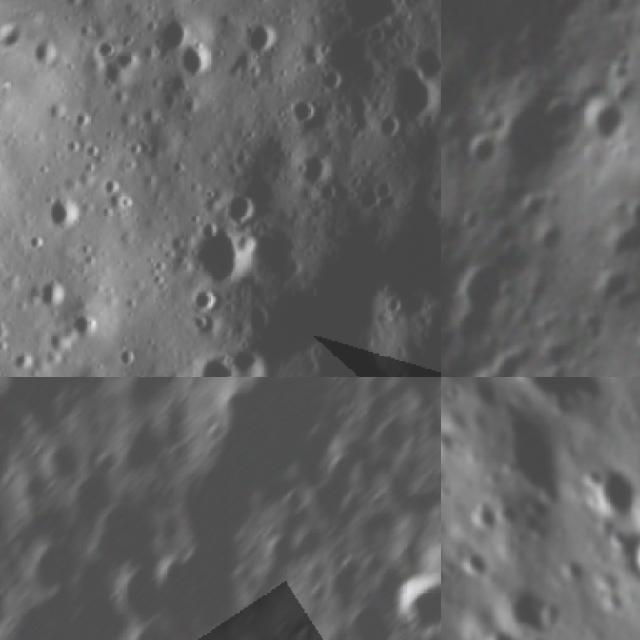crater: (349, 176, 441, 327), (441, 0, 599, 78), (441, 242, 530, 359), (173, 207, 273, 303), (371, 50, 441, 142), (80, 498, 175, 564), (570, 452, 640, 541), (324, 0, 421, 64), (603, 125, 640, 285), (441, 381, 476, 535), (99, 563, 171, 629), (0, 377, 107, 421), (15, 534, 80, 600), (212, 174, 276, 240), (33, 183, 95, 247), (113, 420, 174, 482), (389, 568, 441, 640), (284, 142, 344, 203), (577, 91, 635, 151), (235, 9, 291, 70), (166, 36, 217, 94), (307, 472, 359, 527), (452, 123, 505, 176), (459, 497, 510, 548), (30, 270, 79, 322), (40, 440, 94, 487), (376, 377, 441, 416), (276, 93, 329, 140), (446, 349, 534, 377), (615, 517, 640, 611), (485, 494, 531, 540), (528, 212, 572, 258), (260, 532, 304, 578), (184, 348, 253, 377), (0, 390, 35, 447), (457, 550, 498, 592), (520, 492, 555, 528), (473, 622, 533, 640), (280, 485, 304, 525), (593, 0, 634, 22), (514, 626, 568, 640), (293, 620, 322, 640)
